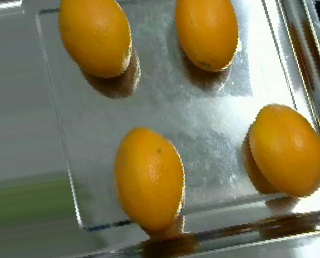Orange: (113, 126, 184, 230), (248, 102, 320, 196), (58, 1, 132, 78), (175, 1, 237, 72)
